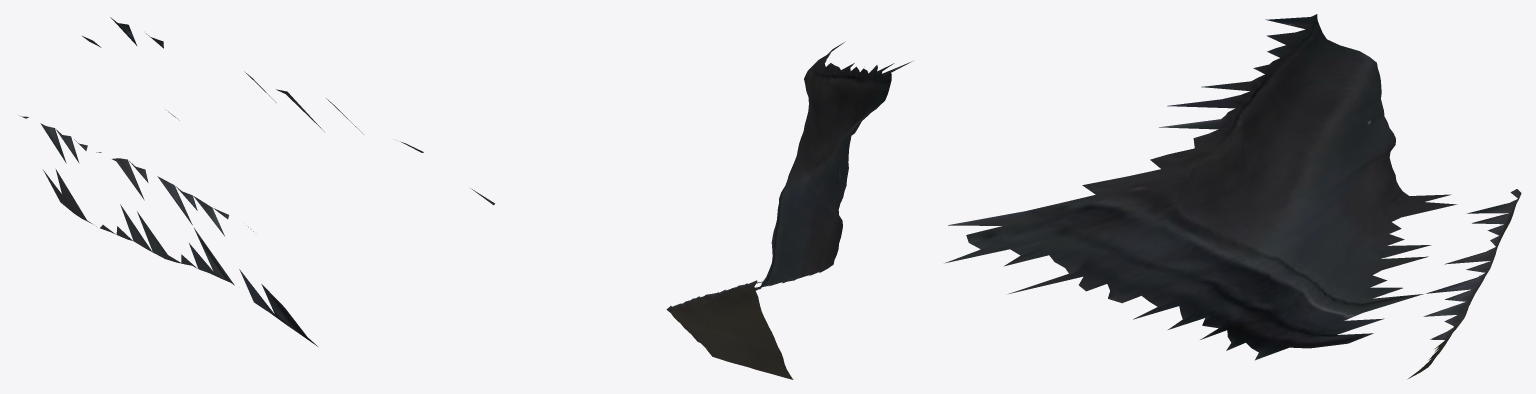
Rendered from observed-surface.glb.
The picture shows the model from 3 angles, left to right: view 1: azimuth 30°, elevation 25°; view 2: azimuth 150°, elevation 25°; view 3: azimuth 270°, elevation 25°; orthographic projection. The views are drawn at different scales.
Visible parts, largest first — view 1: geometry_0; view 2: geometry_0; view 3: geometry_0.
Boxes of the visible parts, bbox=[...] form: geometry_0: bbox=[19, 17, 494, 346]; geometry_0: bbox=[666, 41, 912, 379]; geometry_0: bbox=[945, 14, 1521, 379].
Size of the model in its own units: 0.365 by 0.5198 by 0.9181.
1 material, 1 textured.
